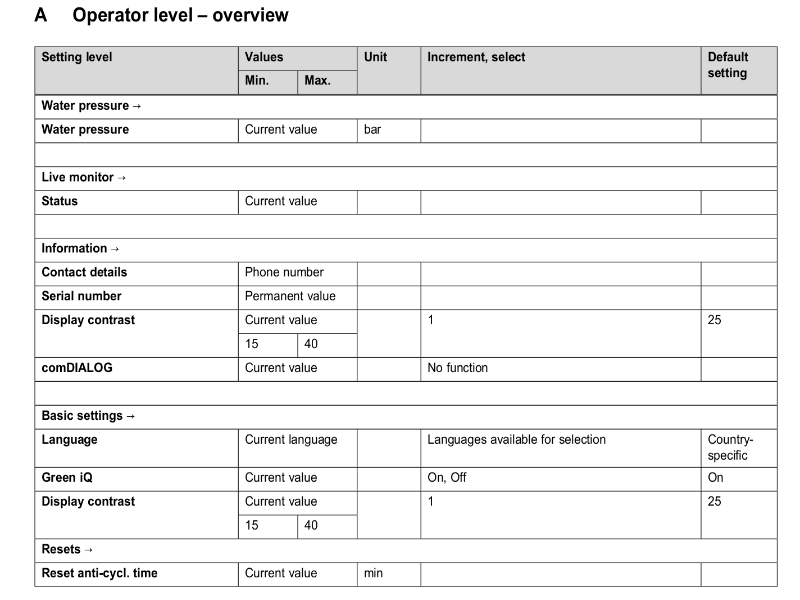border: (27, 37, 790, 593)
cell: (426, 430, 609, 448), (426, 48, 530, 67), (40, 96, 144, 114), (39, 120, 143, 138), (37, 311, 139, 329), (38, 566, 160, 581), (38, 493, 139, 511), (37, 262, 129, 281), (705, 433, 760, 463), (243, 287, 339, 304), (36, 287, 132, 304), (243, 431, 338, 448), (706, 48, 751, 83), (38, 240, 123, 258), (39, 169, 131, 185), (243, 264, 327, 281), (243, 120, 320, 138), (39, 49, 116, 66), (38, 409, 138, 422), (242, 311, 323, 327), (242, 469, 318, 486), (242, 565, 322, 581), (243, 193, 320, 209), (242, 361, 320, 376), (39, 360, 115, 375), (242, 495, 320, 509), (424, 361, 493, 376), (39, 432, 102, 448), (39, 470, 98, 487), (241, 48, 290, 66), (39, 541, 95, 556), (425, 470, 475, 485), (240, 72, 279, 90), (303, 72, 342, 90), (360, 47, 399, 65), (38, 194, 85, 208), (360, 121, 394, 138), (360, 565, 387, 582), (243, 336, 264, 353), (241, 517, 264, 532), (301, 518, 324, 533), (704, 312, 725, 327), (302, 337, 322, 352), (424, 493, 440, 511), (707, 492, 723, 510), (425, 312, 438, 327)
